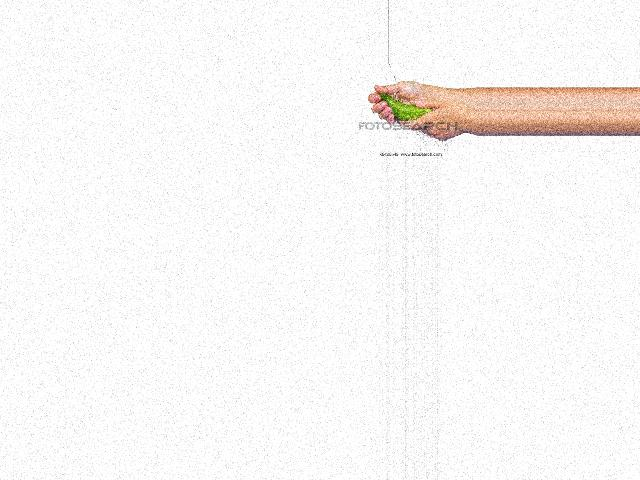cucumber: (378, 93, 434, 122)
